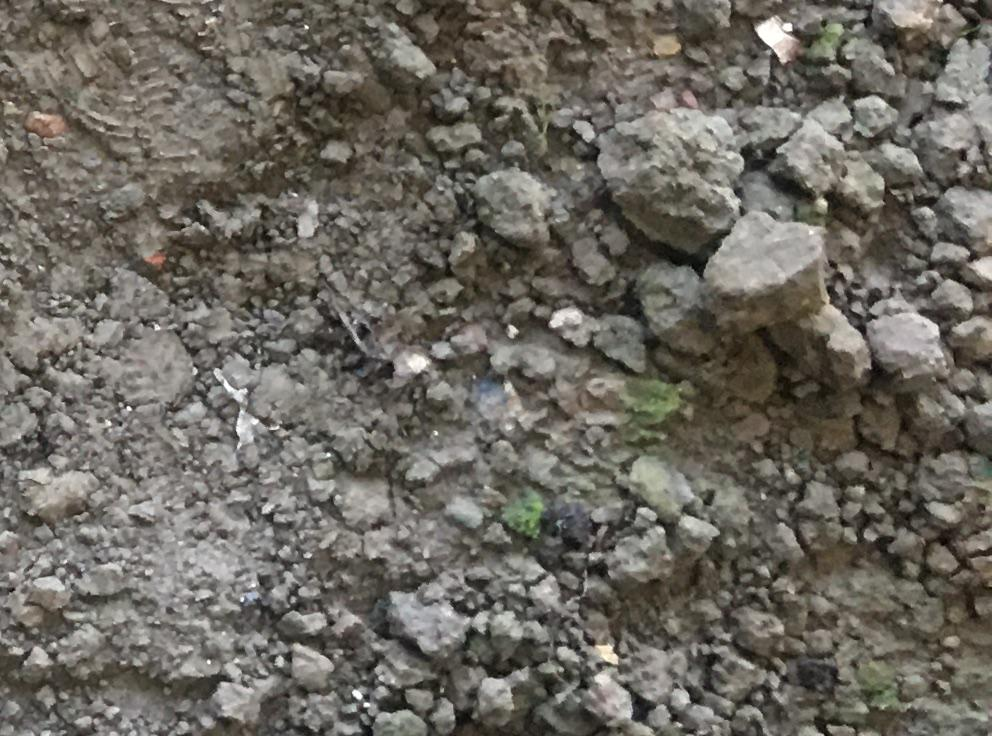block: (588, 106, 734, 260), (700, 207, 831, 342)
